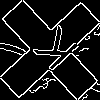K: (24, 24, 81, 80)
